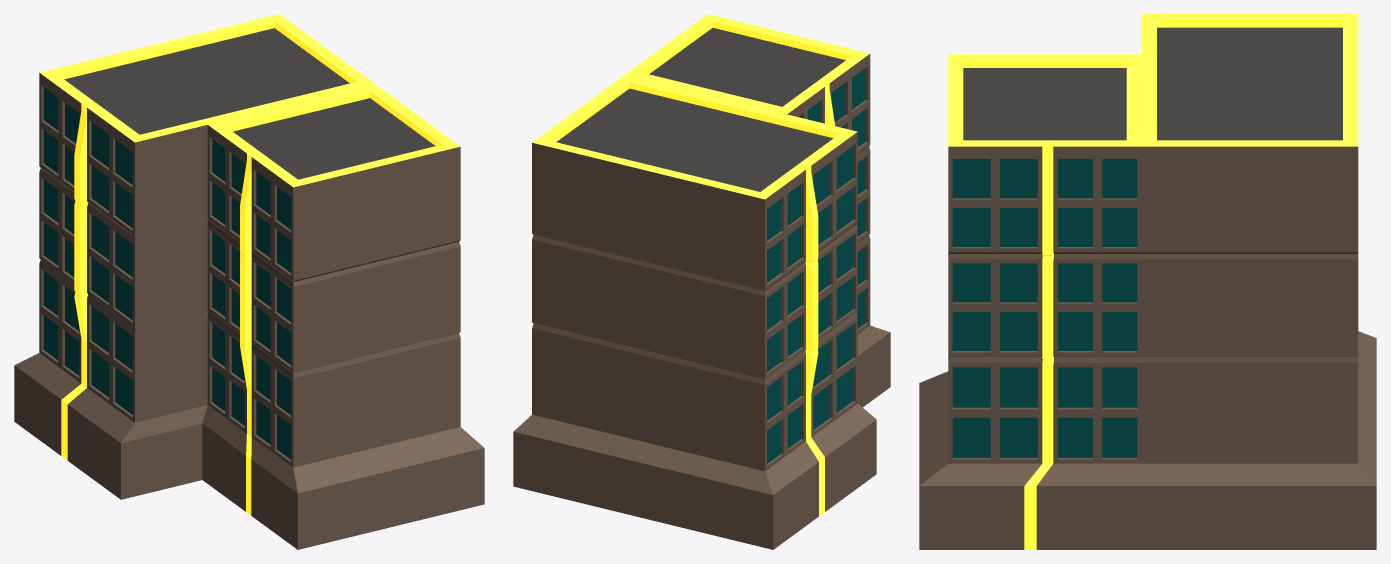
The model's file is POOPOOYOU.fbx.
3 views of the same model, side by side, from view 1: azimuth 30°, elevation 25°; view 2: azimuth 150°, elevation 25°; view 3: azimuth 270°, elevation 25° (orthographic). The views are drawn at different scales.
Visible parts, largest first — view 1: Cube.002; view 2: Cube.002; view 3: Cube.002.
Boxes of the visible parts, x1=… form: Cube.002: x1=14, y1=14, x2=484, y2=549; Cube.002: x1=513, y1=14, x2=890, y2=549; Cube.002: x1=919, y1=14, x2=1376, y2=549.
Bounding box in the file's own units: 555 × 695 × 725.
